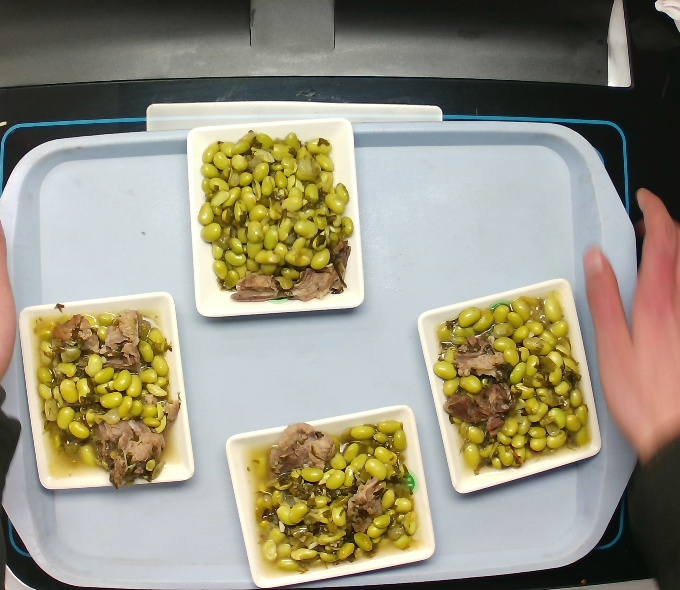wcq-ZhuRouDunDou: (416, 290, 597, 483), (228, 416, 433, 582), (195, 124, 361, 311), (29, 312, 185, 488)
